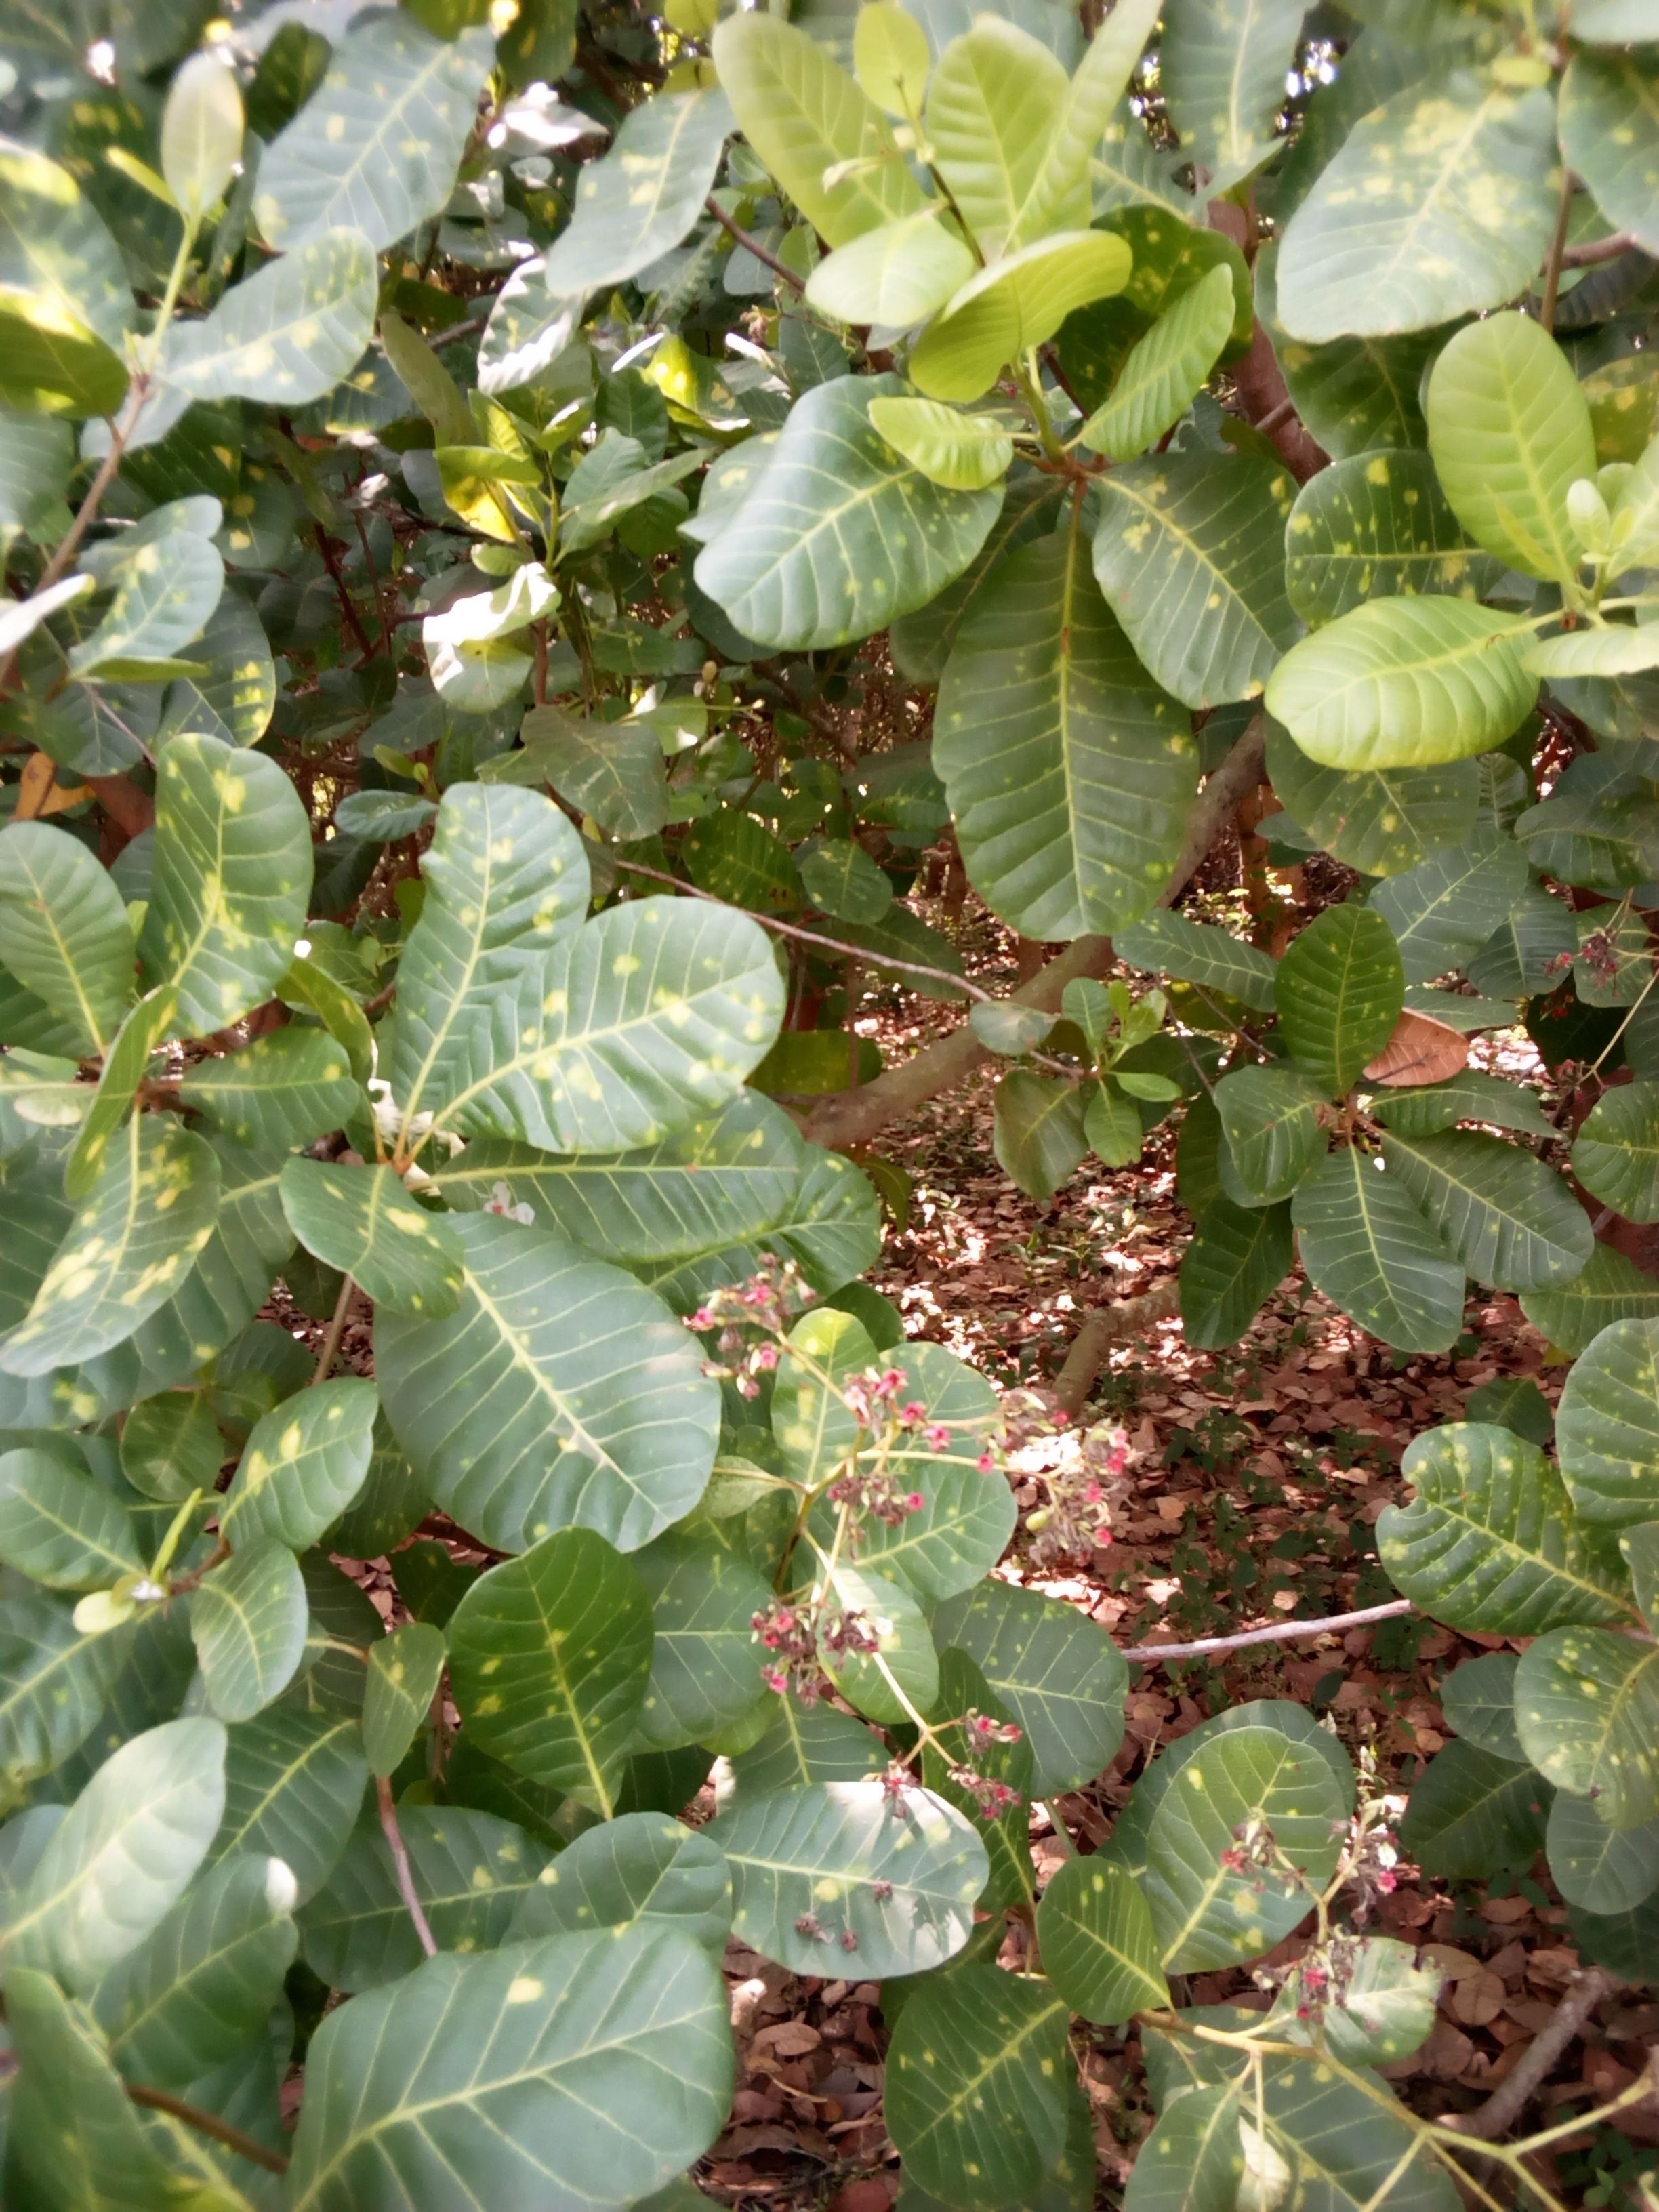Carence minérale: (277, 1919, 826, 2212), (366, 1200, 739, 1557), (931, 516, 1178, 948), (1246, 49, 1575, 347), (671, 371, 1009, 655), (453, 888, 812, 1153), (439, 1519, 690, 1824), (0, 1127, 284, 1393), (73, 221, 399, 439), (399, 773, 589, 1134), (1124, 1719, 1403, 1959), (863, 1966, 1134, 2212), (1368, 1393, 1622, 1651), (230, 24, 491, 266), (129, 740, 338, 1042), (528, 52, 762, 310), (1277, 1153, 1507, 1367), (267, 1127, 481, 1350), (1270, 446, 1504, 629), (0, 131, 155, 378), (1274, 892, 1429, 1123), (1500, 1622, 1659, 1815), (119, 578, 310, 737)
